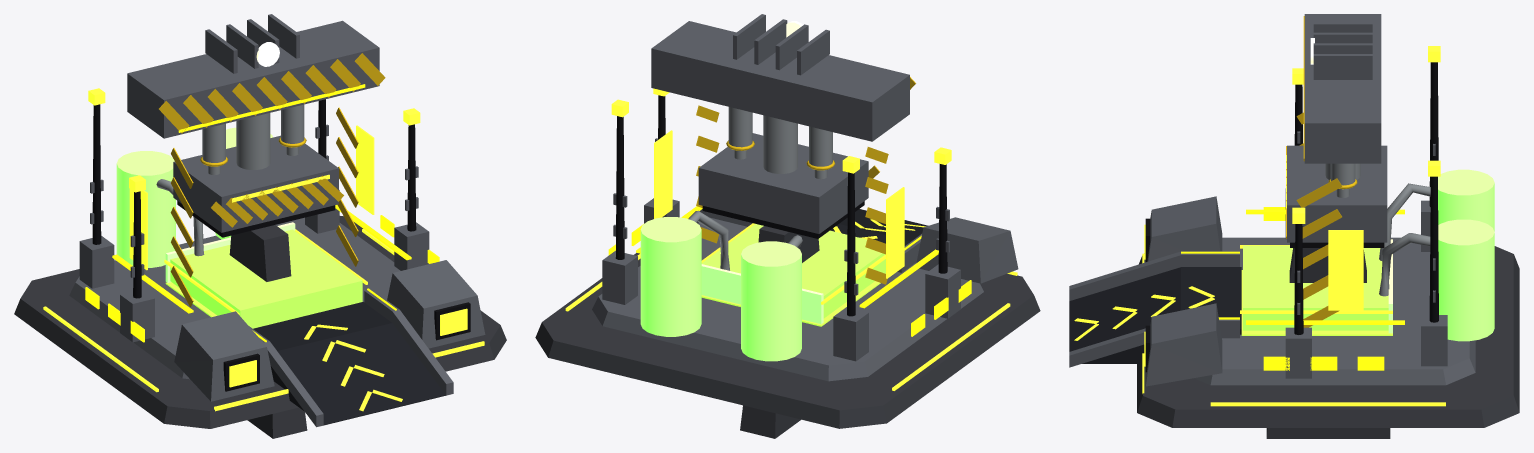
The model's file is AcidCrusherFurnace_Roblox.fbx.
The picture shows the model from 3 angles, left to right: view 1: azimuth 30°, elevation 25°; view 2: azimuth 150°, elevation 25°; view 3: azimuth 270°, elevation 25°; orthographic projection. The views are drawn at different scales.
Parts seen in each view (by area): view 1: SteelPlate, DarkPlate, Conveyor, BurnZone, HazardYellow, AcidNeon, Black, TankGlass, PipeSteel, HazardNeon, PoolGlass; view 2: SteelPlate, DarkPlate, TankGlass, AcidNeon, PipeSteel, Black, BurnZone, HazardYellow, PoolGlass, HazardNeon, Conveyor, AcidPool; view 3: SteelPlate, DarkPlate, TankGlass, Conveyor, AcidNeon, BurnZone, Black, HazardNeon, PipeSteel, HazardYellow, AcidPool.
Boxes of the visible parts, <box> form: SteelPlate: <box>69,14,485,427</box>; DarkPlate: <box>14,216,506,438</box>; Conveyor: <box>253,302,446,425</box>; BurnZone: <box>170,229,362,328</box>; HazardYellow: <box>159,53,385,306</box>; AcidNeon: <box>43,88,484,411</box>; Black: <box>92,99,470,391</box>; TankGlass: <box>116,127,273,267</box>; PipeSteel: <box>156,104,304,256</box>; HazardNeon: <box>85,84,439,342</box>; PoolGlass: <box>165,222,295,282</box>; SteelPlate: <box>592,14,1018,381</box>; DarkPlate: <box>535,211,1040,438</box>; TankGlass: <box>640,217,801,361</box>; AcidNeon: <box>565,88,1017,390</box>; PipeSteel: <box>688,107,832,270</box>; Black: <box>615,95,947,316</box>; BurnZone: <box>701,224,885,318</box>; HazardYellow: <box>696,77,915,284</box>; PoolGlass: <box>701,264,823,324</box>; HazardNeon: <box>608,206,971,336</box>; Conveyor: <box>830,209,928,245</box>; AcidPool: <box>701,273,885,326</box>; SteelPlate: <box>1069,14,1475,386</box>; DarkPlate: <box>1137,246,1519,438</box>; TankGlass: <box>1438,169,1494,341</box>; Conveyor: <box>1069,267,1241,363</box>; AcidNeon: <box>1074,46,1445,406</box>; BurnZone: <box>1243,245,1388,330</box>; Black: <box>1145,62,1438,372</box>; HazardNeon: <box>1181,207,1404,370</box>; PipeSteel: <box>1325,163,1430,296</box>; HazardYellow: <box>1286,16,1357,327</box>; AcidPool: <box>1241,270,1392,335</box>.
Bounding box in the file's own units: 1400 × 1465 × 1530.
